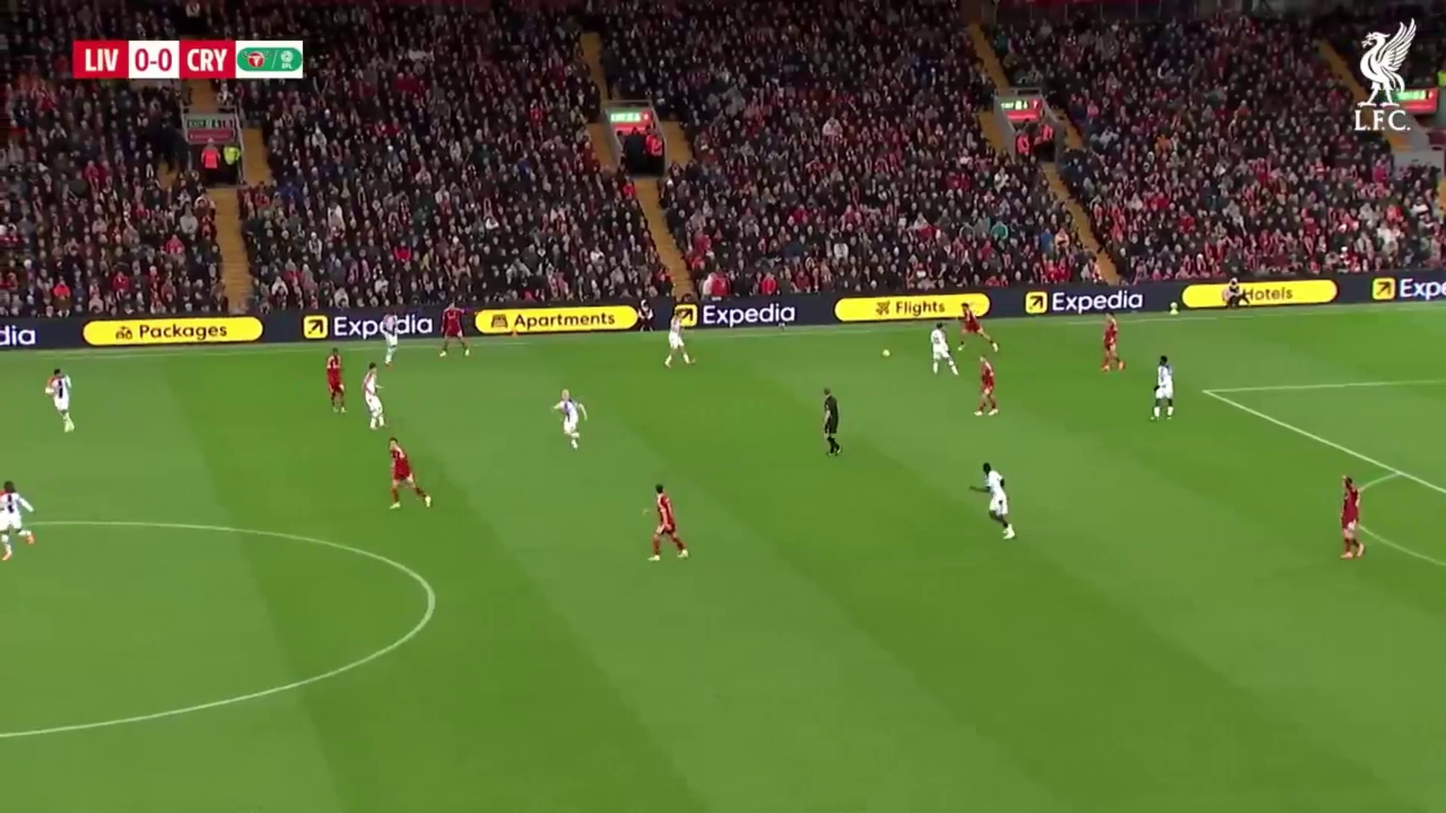player: (952, 306, 1001, 417), (648, 482, 690, 561), (388, 441, 433, 510), (978, 462, 1015, 539), (0, 482, 37, 553), (1337, 475, 1364, 560), (554, 386, 586, 449), (1150, 352, 1176, 422), (438, 302, 470, 358), (360, 362, 386, 429), (47, 369, 73, 433), (820, 387, 842, 457), (974, 360, 1000, 418), (1099, 317, 1125, 374), (324, 350, 346, 414), (664, 323, 693, 368), (929, 325, 954, 377)
